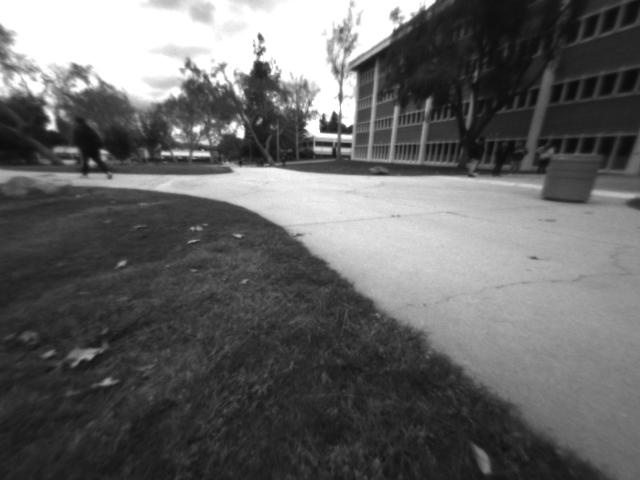trashcan: (542, 149, 596, 206)
